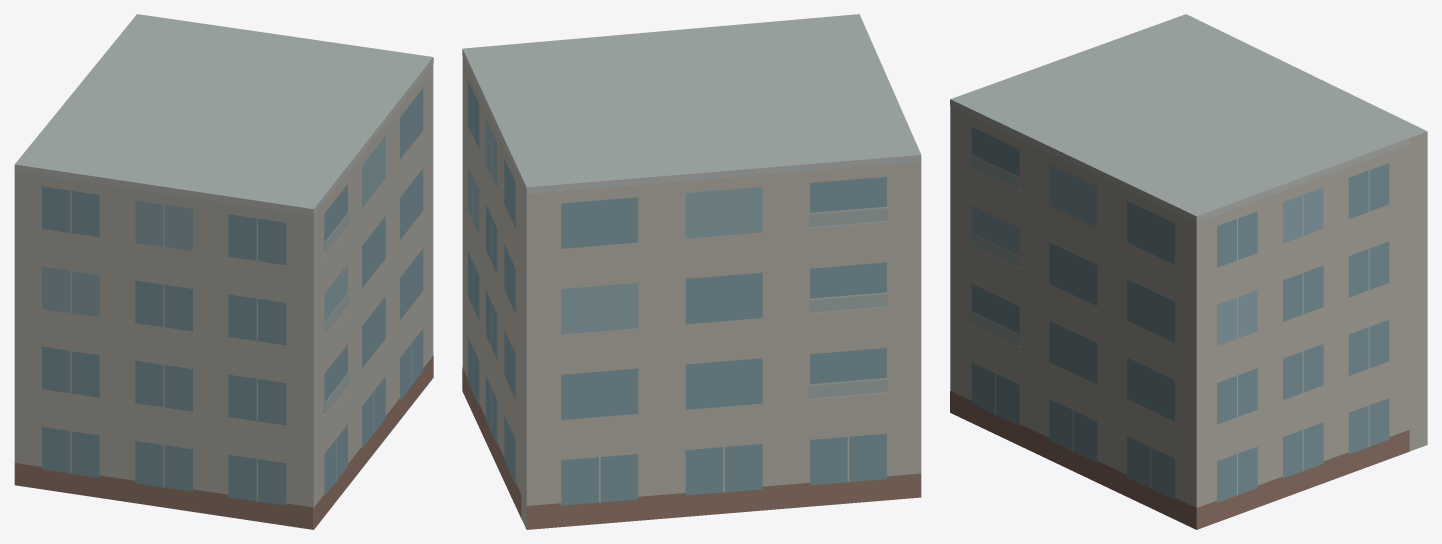
File: survey-upis-32745771.glb
3 views of the same model, side by side, from view 1: azimuth 30°, elevation 25°; view 2: azimuth 150°, elevation 25°; view 3: azimuth 270°, elevation 25° (orthographic). The views are drawn at different scales.
Visible parts, largest first — view 1: survey-upis-32745771.tmp; view 2: survey-upis-32745771.tmp; view 3: survey-upis-32745771.tmp.
Part boxes in pixels (x1,y1,x2,y2): survey-upis-32745771.tmp: (14, 14, 433, 529); survey-upis-32745771.tmp: (462, 14, 921, 529); survey-upis-32745771.tmp: (950, 14, 1427, 529).
Bounding box in the file's own units: 16.48 × 11.9 × 16.44.
